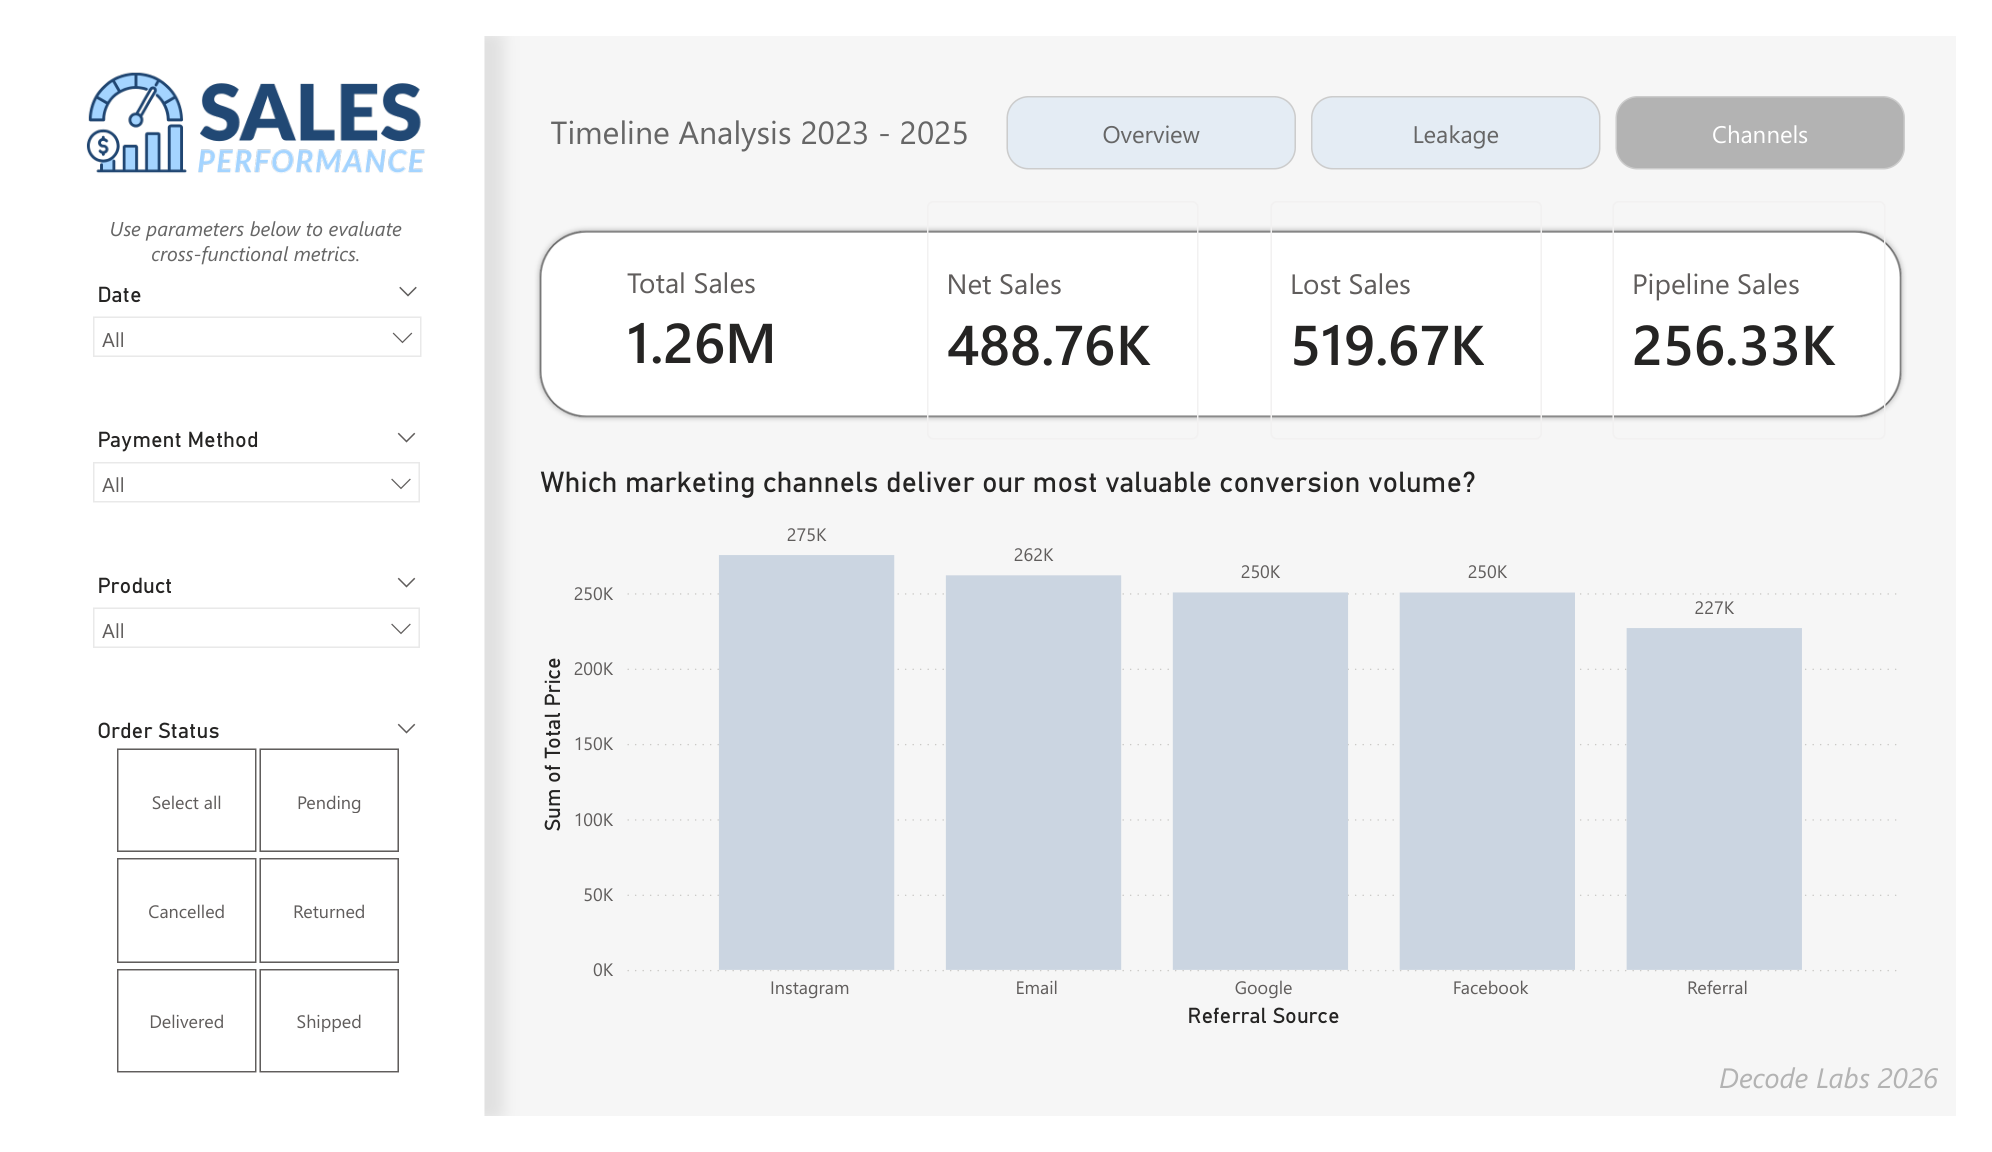

The page's visual inventory and layout, read from the dashboard file:
{"tool":"powerbi","page":{"name":"Channels","canvas":[1280,720],"ordinal":2},"visuals":[{"type":"clusteredColumnChart","title":"Which marketing channels deliver our most valuable conversion volume?","fields":{"Category":["Clean_Dataset_Data_Analytics.ReferralSource"],"Y":["Sum(Clean_Dataset_Data_Analytics.TotalPrice)"]},"box":[331.4,285.7,915.7,380],"z":0},{"type":"pageNavigator","box":[647.2,39.6,600.4,49.2],"z":1000},{"type":"shape","box":[332.1,126.2,915.3,131.7],"z":2000},{"type":"cardVisual","fields":{"Data":["Sum(Clean_Dataset_Data_Analytics.TotalPrice)"]},"box":[364.8,92.7,199,193.5],"z":3000},{"type":"cardVisual","fields":{"Data":["Sum(Clean_Dataset_Data_Analytics.TotalPrice)"]},"box":[577,92.7,215.4,193.5],"z":4000},{"type":"cardVisual","fields":{"Data":["Sum(Clean_Dataset_Data_Analytics.TotalPrice)"]},"box":[805.7,92.7,215.4,193.5],"z":5000},{"type":"cardVisual","fields":{"Data":["Sum(Clean_Dataset_Data_Analytics.TotalPrice)"]},"box":[1034.4,92.7,215.4,193.5],"z":6000},{"type":"shape","box":[0,0,298.6,720],"z":7000},{"type":"slicer","fields":{"Values":["Clean_Dataset_Data_Analytics.OrderStatus"]},"box":[28,449.8,237.7,248.6],"z":8000},{"type":"slicer","fields":{"Values":["Clean_Dataset_Data_Analytics.PaymentMethod"]},"box":[28,256.1,237.7,76.8],"z":9000},{"type":"slicer","fields":{"Values":["Clean_Dataset_Data_Analytics.Product"]},"box":[28,352.9,237.7,76.8],"z":10000},{"type":"slicer","fields":{"Values":["Clean_Dataset_Data_Analytics.Date Hierarchy.Year_Label","Clean_Dataset_Data_Analytics.Date Hierarchy.Month_Label","Clean_Dataset_Data_Analytics.Date Hierarchy.Day_Label"]},"box":[28,159.4,238.8,76.8],"z":11000},{"type":"image","box":[0,0,338.6,114.3],"z":12000},{"type":"textbox","box":[1010,675.7,262.9,44.3],"z":13000},{"type":"textbox","box":[35,114.2,223.3,62.5],"z":14000},{"type":"textbox","box":[338.2,43.5,310,40.6],"z":15000}]}

Visuals, with their boxes in screenshot pixels (x1, y1, x2, y2), scaled from the page's 1280x720 canvas onto the 1992x1152 screenshot:
"Which marketing channels deliver our most valuable conversion volume?" clusteredColumnChart: Rect(516, 457, 1941, 1065)
pageNavigator: Rect(1007, 63, 1942, 142)
shape: Rect(517, 202, 1941, 413)
cardVisual - Sum(Clean_Dataset_Data_Analytics.TotalPrice): Rect(568, 148, 877, 458)
cardVisual - Sum(Clean_Dataset_Data_Analytics.TotalPrice): Rect(898, 148, 1233, 458)
cardVisual - Sum(Clean_Dataset_Data_Analytics.TotalPrice): Rect(1254, 148, 1589, 458)
cardVisual - Sum(Clean_Dataset_Data_Analytics.TotalPrice): Rect(1610, 148, 1945, 458)
shape: Rect(0, 0, 465, 1151)
slicer - Clean_Dataset_Data_Analytics.OrderStatus: Rect(44, 720, 413, 1117)
slicer - Clean_Dataset_Data_Analytics.PaymentMethod: Rect(44, 410, 413, 533)
slicer - Clean_Dataset_Data_Analytics.Product: Rect(44, 565, 413, 688)
slicer - Clean_Dataset_Data_Analytics.Date Hierarchy.Year_Label x Clean_Dataset_Data_Analytics.Date Hierarchy.Month_Label: Rect(44, 255, 415, 378)
image: Rect(0, 0, 527, 183)
textbox: Rect(1572, 1081, 1981, 1151)
textbox: Rect(54, 183, 402, 283)
textbox: Rect(526, 70, 1009, 135)
